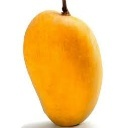mango: (23, 10, 102, 126)
